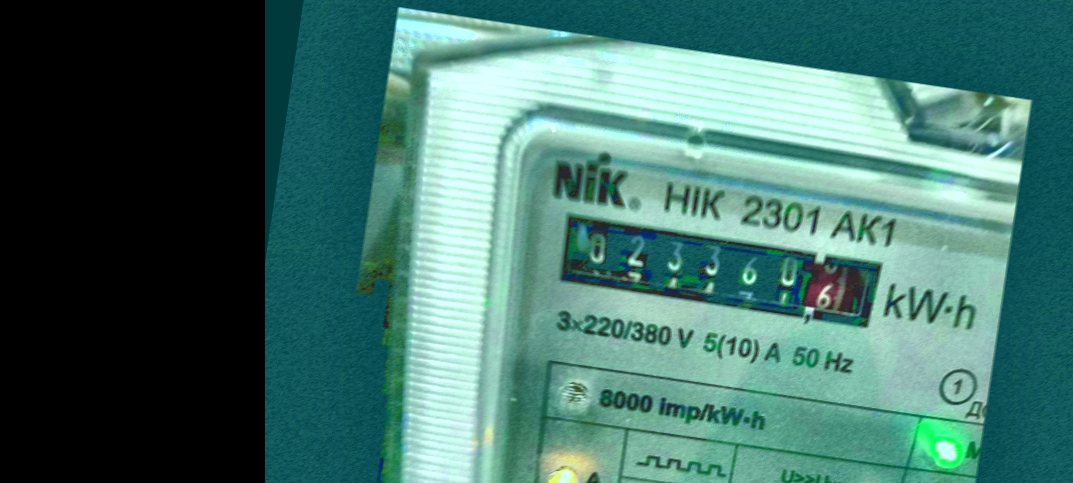0: (585, 228, 612, 266), (777, 253, 804, 290)
2: (625, 232, 651, 270)
3: (664, 238, 689, 275), (703, 243, 725, 279)
6: (739, 251, 763, 287), (814, 277, 836, 312)
screen: (543, 200, 904, 349)
